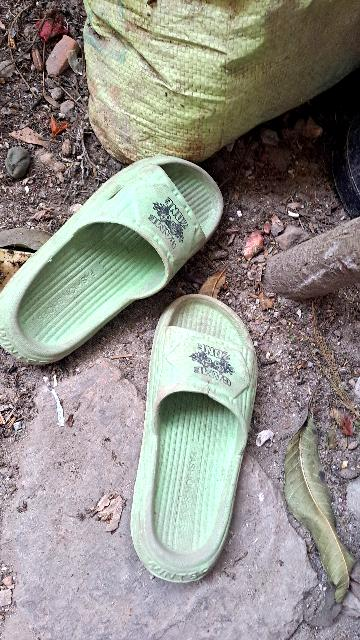sandal: (0, 141, 234, 392), (102, 287, 282, 601)
